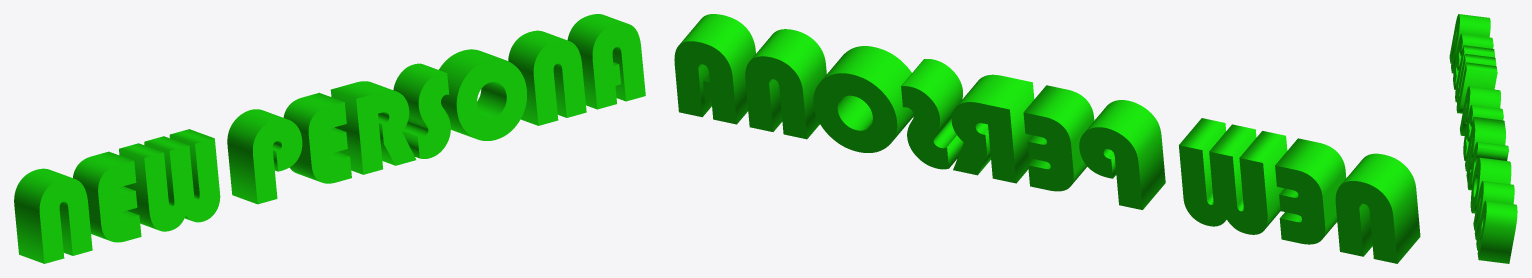
File: kia2.glb
The picture shows the model from 3 angles, left to right: view 1: azimuth 30°, elevation 25°; view 2: azimuth 150°, elevation 25°; view 3: azimuth 270°, elevation 25°; orthographic projection. The views are drawn at different scales.
Parts seen in each view (by area): view 1: 텍스트; view 2: 텍스트; view 3: 텍스트.
Part boxes in pixels (x1,y1,x2,y2): 텍스트: (14, 14, 645, 263); 텍스트: (674, 14, 1420, 263); 텍스트: (1449, 14, 1517, 263).
Size of the model in its own units: 3.38 by 0.4222 by 0.4756.
